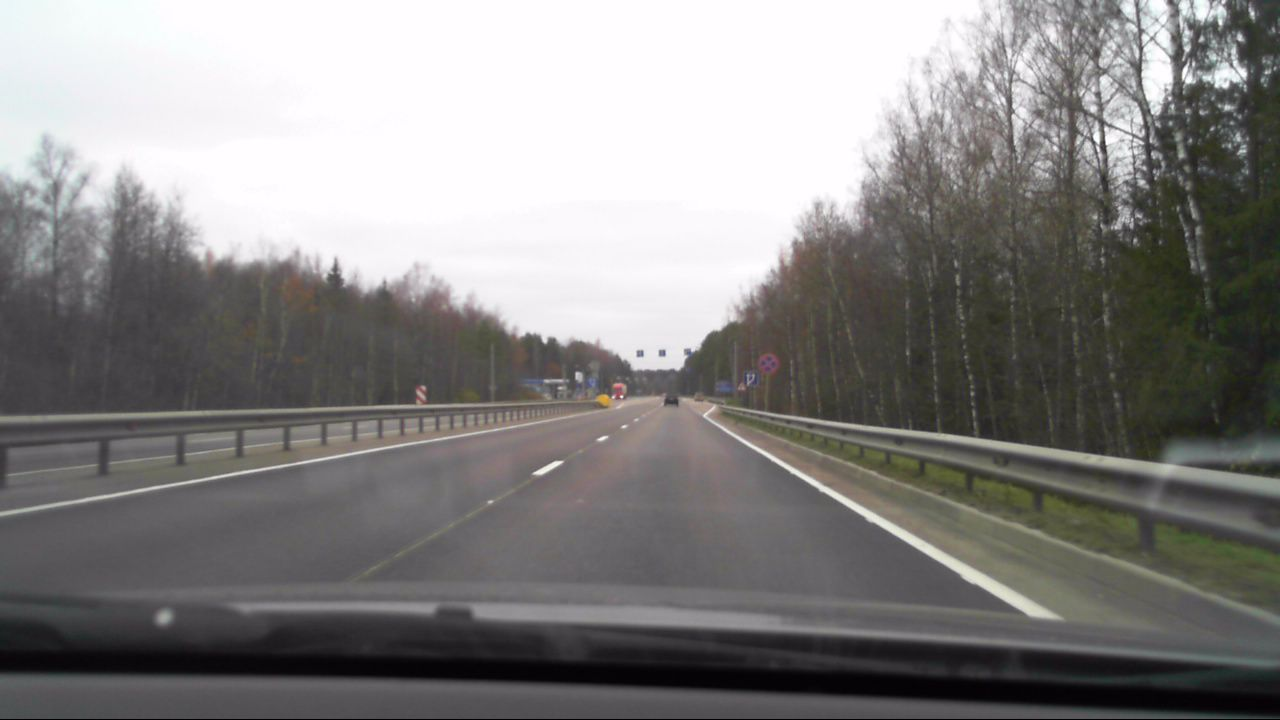No Parking: (757, 354, 776, 372)
